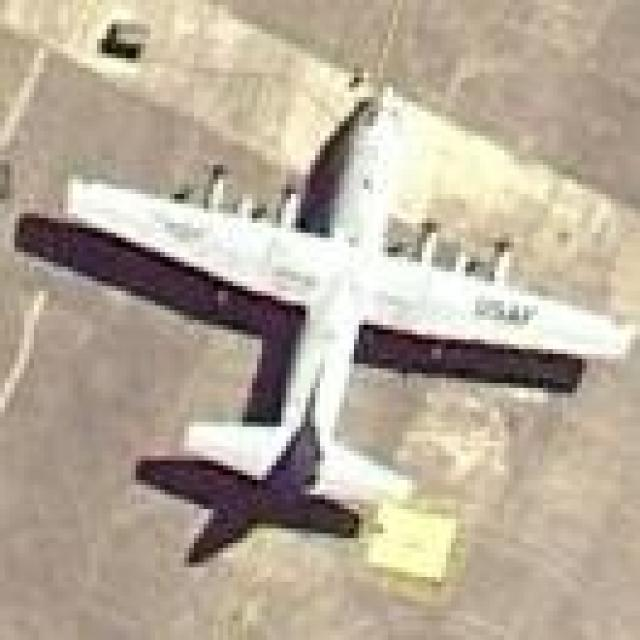C-130_TopDown: (15, 83, 635, 569)
